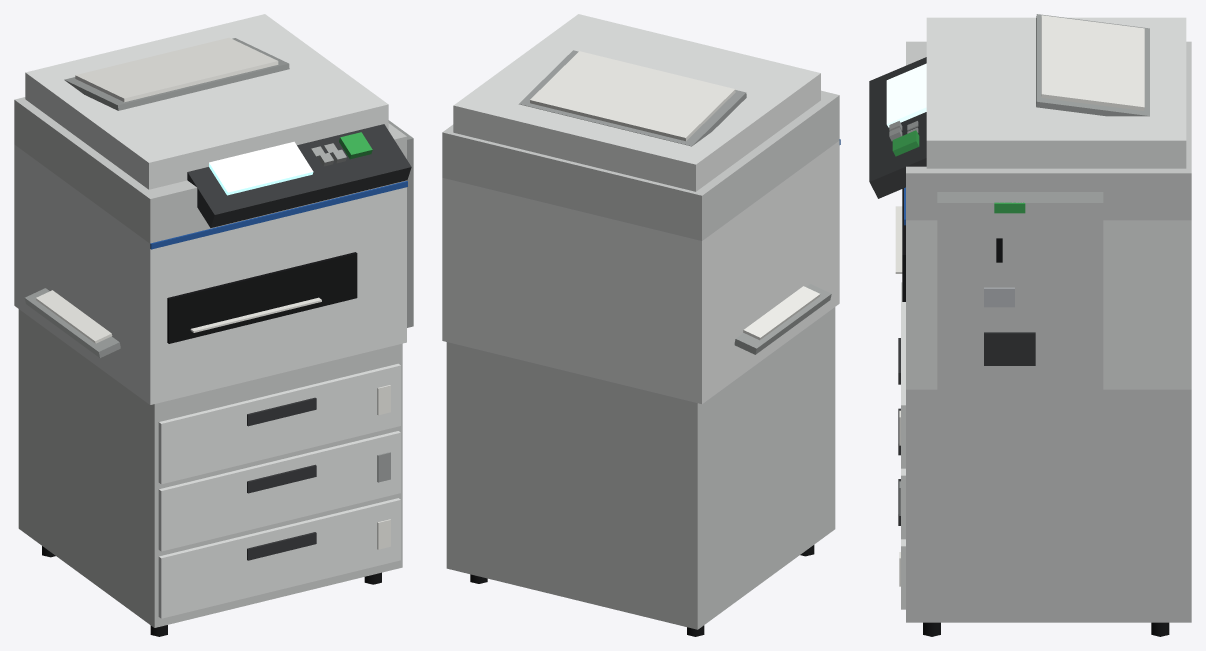
The model's file is copy_machine.glb.
3 views of the same model, side by side, from view 1: azimuth 30°, elevation 25°; view 2: azimuth 150°, elevation 25°; view 3: azimuth 270°, elevation 25° (orthographic). The views are drawn at different scales.
Visible parts, largest first — view 1: copier; view 2: copier; view 3: copier.
Boxes of the visible parts, box(x1,y1,x2,y2) form: copier: box(14, 14, 413, 636); copier: box(442, 14, 840, 636); copier: box(869, 14, 1191, 636).
Size of the model in its own units: 0.705 by 1.1 by 0.6205.
